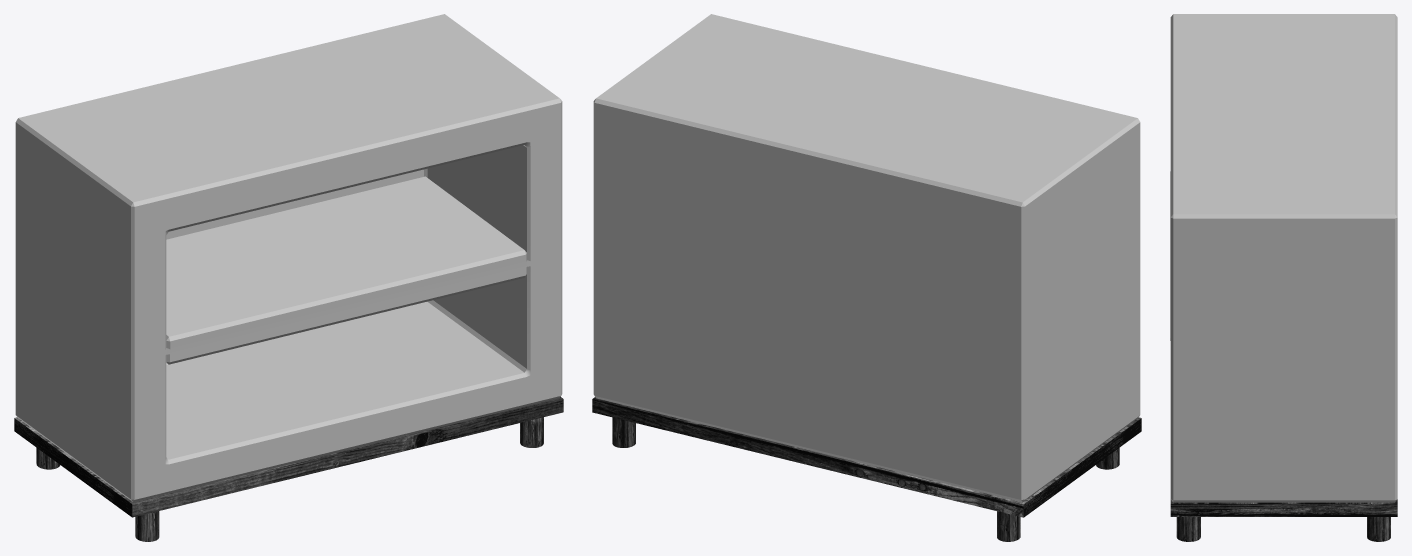
Rendered from HackRE1.fbx.
3 renders of one model, left to right at view 1: azimuth 30°, elevation 25°; view 2: azimuth 150°, elevation 25°; view 3: azimuth 270°, elevation 25°, orthographic. The views are drawn at different scales.
Visible parts, largest first — view 1: pCube1, pCube2, pCylinder3, pCylinder2; view 2: pCube1, pCube2, pCylinder4, pCylinder5; view 3: pCube1, pCube2, pCylinder2, pCylinder5.
Boxes of the visible parts, bbox=[...] form: pCube1: bbox=[15, 14, 562, 502]; pCube2: bbox=[14, 397, 563, 517]; pCylinder3: bbox=[135, 511, 159, 541]; pCylinder2: bbox=[520, 417, 543, 447]; pCube1: bbox=[593, 14, 1140, 502]; pCube2: bbox=[592, 397, 1141, 517]; pCylinder4: bbox=[997, 511, 1020, 541]; pCylinder5: bbox=[612, 417, 635, 447]; pCube1: bbox=[1170, 14, 1397, 502]; pCube2: bbox=[1170, 499, 1397, 516]; pCylinder2: bbox=[1176, 517, 1200, 541]; pCylinder5: bbox=[1367, 517, 1390, 541].
Size of the model in its own units: 1.1 by 0.8416 by 0.5212.
